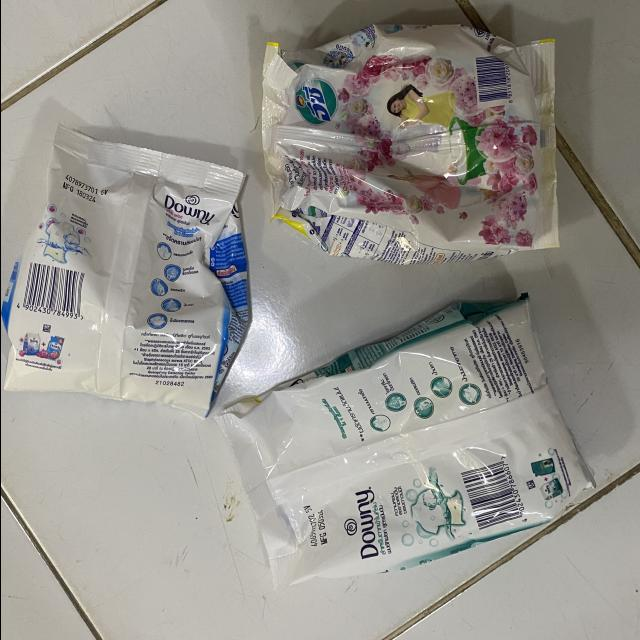plastik: (216, 294, 593, 592), (0, 127, 247, 418), (260, 25, 558, 265)
